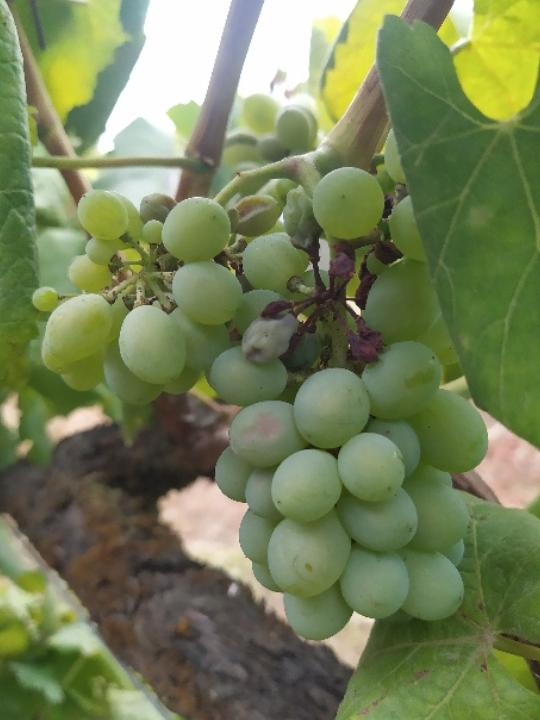grape: (40, 163, 492, 647)
